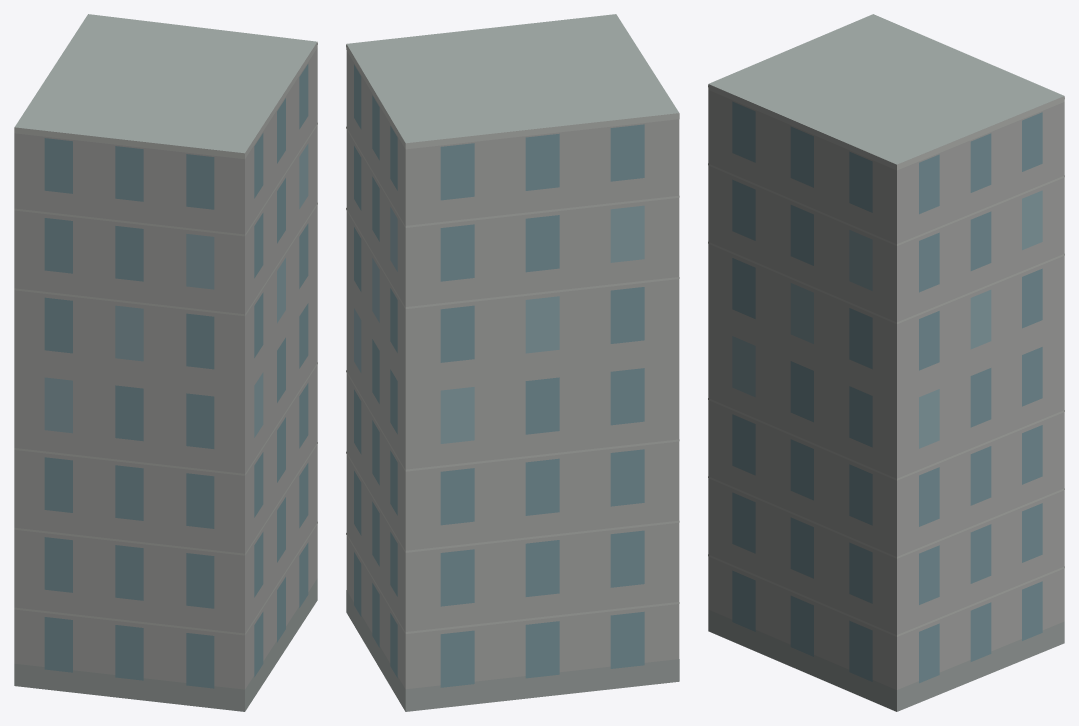
File: survey-upis-32919935.glb
3 views of the same model, side by side, from view 1: azimuth 30°, elevation 25°; view 2: azimuth 150°, elevation 25°; view 3: azimuth 270°, elevation 25° (orthographic). The views are drawn at different scales.
Parts seen in each view (by area): view 1: survey-upis-32919935.tmp; view 2: survey-upis-32919935.tmp; view 3: survey-upis-32919935.tmp.
Boxes of the visible parts, bbox=[...] form: survey-upis-32919935.tmp: bbox=[14, 14, 317, 711]; survey-upis-32919935.tmp: bbox=[346, 14, 679, 711]; survey-upis-32919935.tmp: bbox=[708, 14, 1064, 711].
Bounding box in the file's own units: 13.48 × 22.8 × 13.47.
